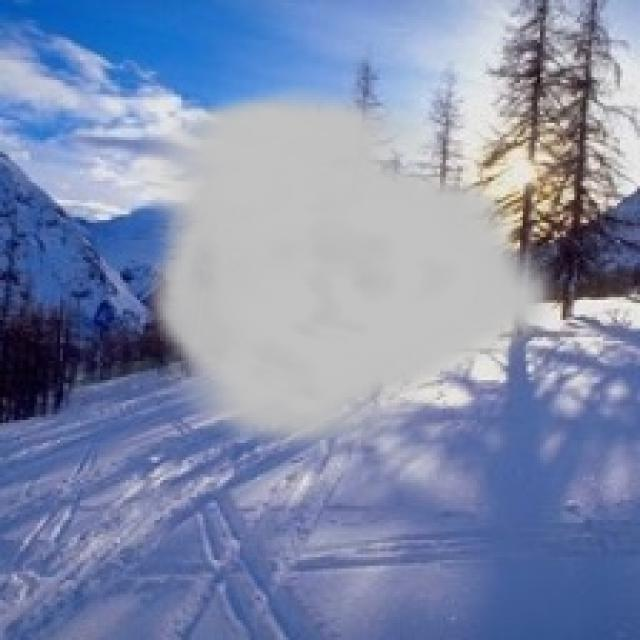Smoke: (140, 86, 563, 460)
